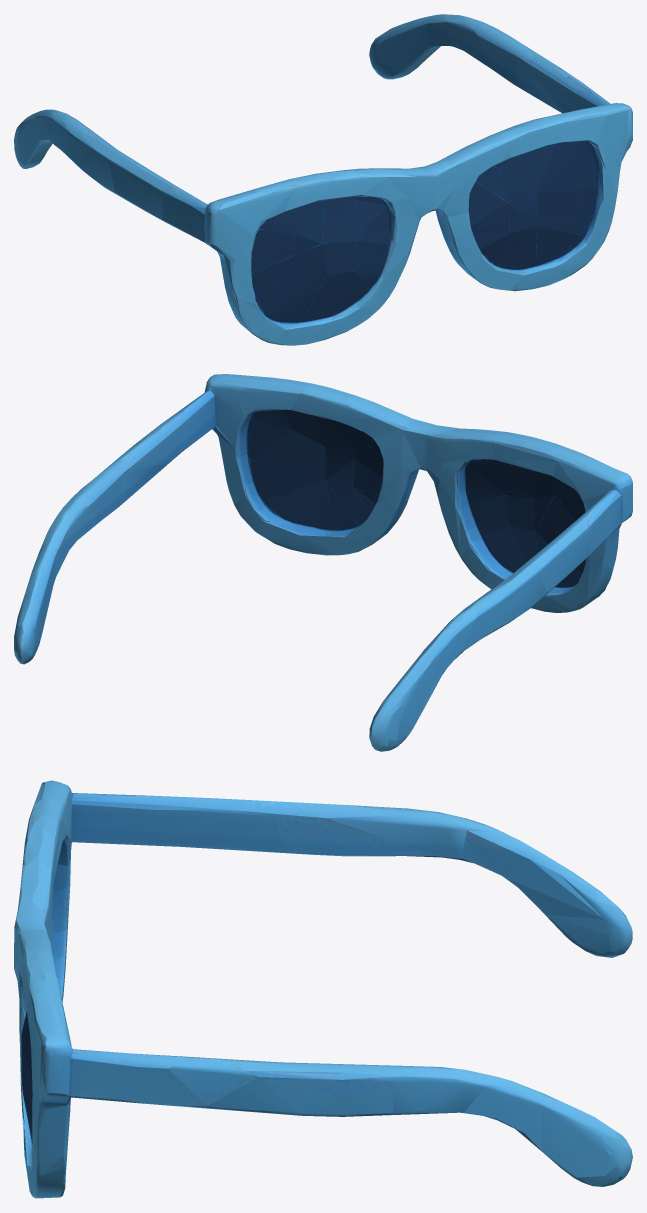
File: glasses_sun.fbx
The picture shows the model from 3 angles, top to bottom: view 1: azimuth 30°, elevation 25°; view 2: azimuth 150°, elevation 25°; view 3: azimuth 270°, elevation 25°; orthographic projection. The views are drawn at different scales.
Visible parts, largest first — view 1: Mesh_0; view 2: Mesh_0; view 3: Mesh_0.
Part boxes in pixels (left/top/right/bottom): Mesh_0: left=14, top=14, right=632, bottom=345; Mesh_0: left=14, top=374, right=632, bottom=751; Mesh_0: left=14, top=780, right=632, bottom=1198.
Size of the model in its own units: 1.9 by 0.6832 by 1.82.
Materials: 1 (1 with a texture image).
